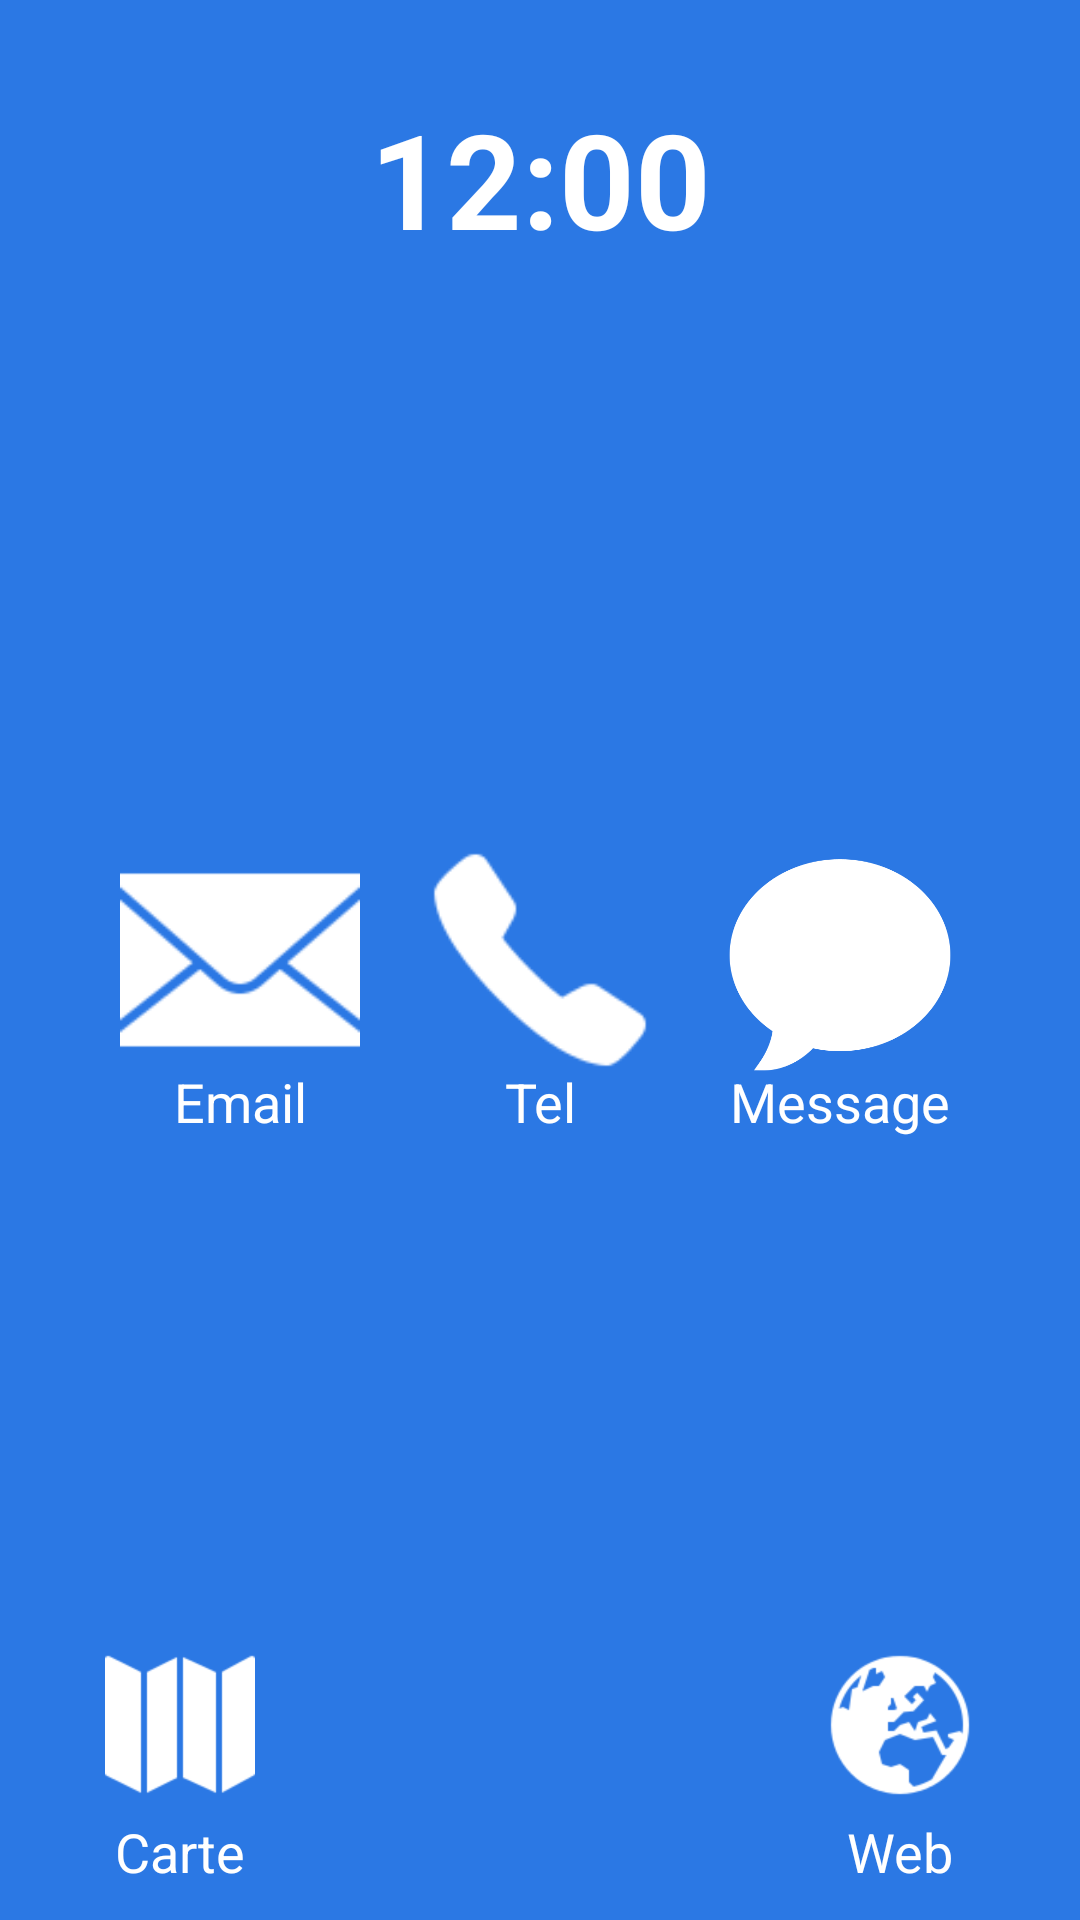

Named icons in this screenshot (1080×1920) and their centers, (x,y):
earth: (900,1725)
